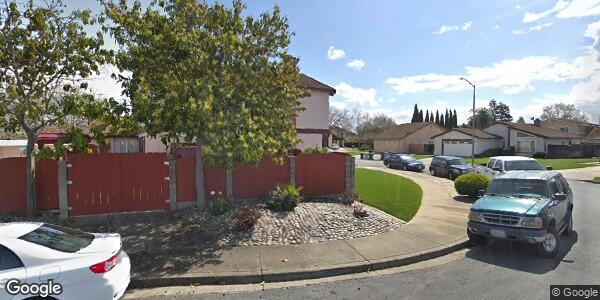Steel_Pole: (457, 76, 477, 163)
